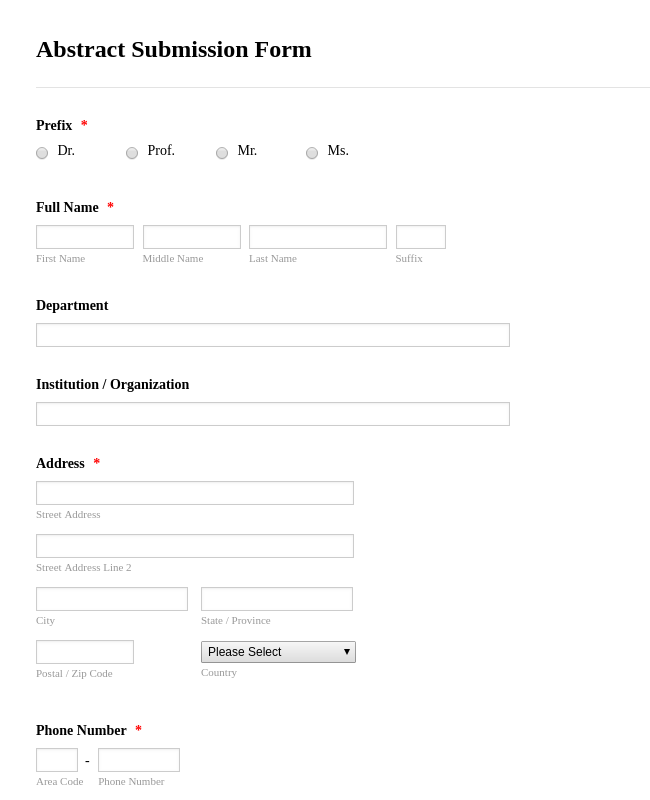checkbox: (304, 146, 320, 161), (34, 147, 49, 160), (126, 147, 138, 160), (216, 146, 228, 159)
textbox: (30, 314, 517, 354), (25, 394, 514, 432), (33, 527, 361, 564), (29, 475, 360, 510), (30, 582, 192, 616), (245, 216, 391, 252), (198, 584, 357, 615), (29, 218, 138, 255), (140, 218, 244, 253), (31, 634, 138, 666), (96, 745, 185, 776), (393, 218, 448, 255), (30, 742, 82, 776)
